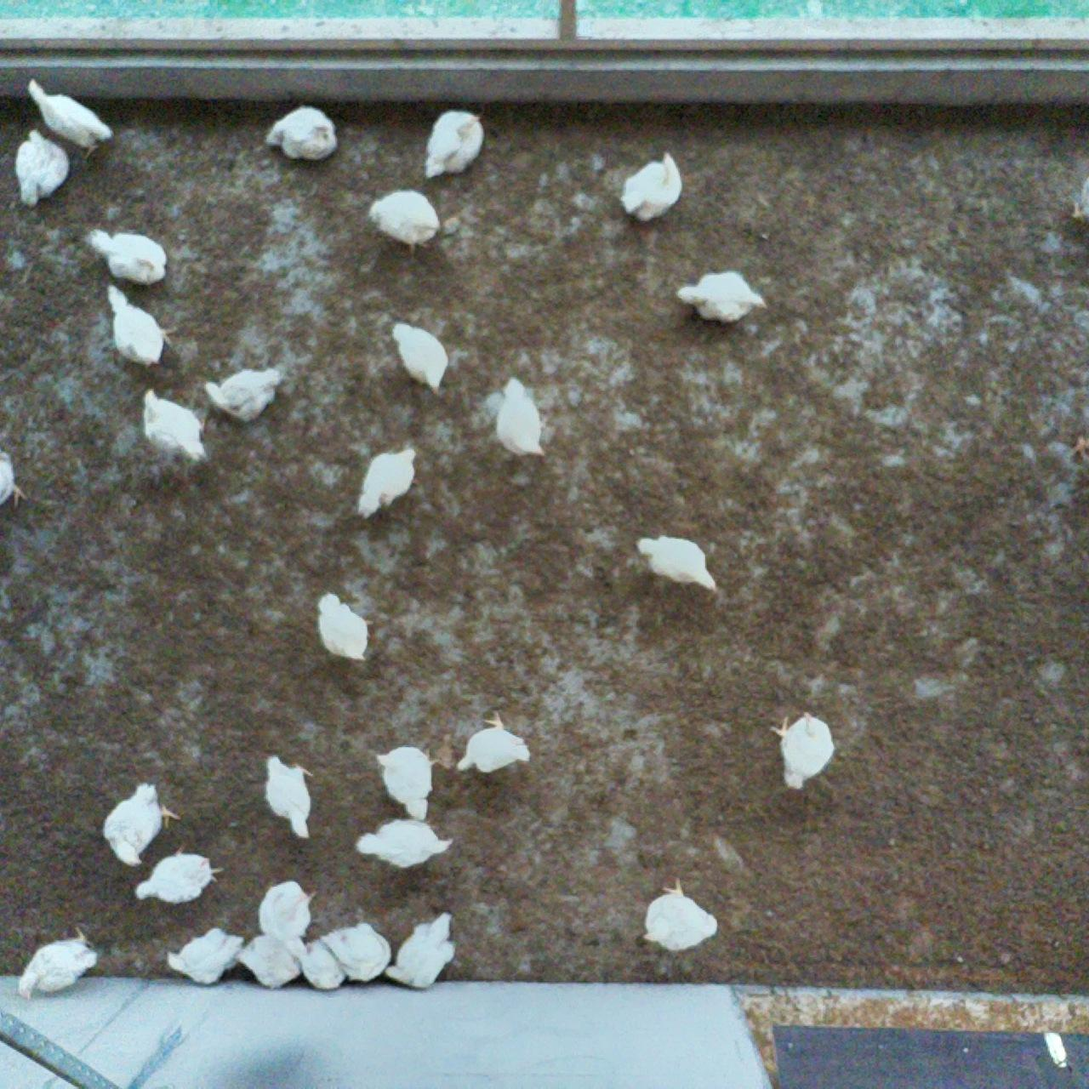chicken: (24, 77, 117, 162), (100, 780, 181, 869), (97, 282, 179, 368), (17, 927, 103, 1005), (384, 907, 458, 993), (639, 880, 719, 954), (370, 743, 442, 821), (672, 269, 768, 325), (455, 709, 533, 777), (634, 530, 719, 592), (354, 816, 453, 869), (82, 225, 169, 285), (139, 388, 210, 461), (200, 364, 283, 426), (163, 926, 247, 987), (366, 188, 441, 256), (773, 710, 837, 789), (620, 149, 688, 223), (357, 443, 419, 524), (131, 853, 227, 905), (491, 374, 549, 460), (256, 878, 316, 961), (388, 318, 450, 394), (318, 922, 394, 983), (423, 106, 485, 180), (314, 588, 374, 664), (14, 131, 73, 208), (262, 754, 314, 839), (262, 106, 338, 162), (235, 932, 304, 991), (295, 936, 345, 990), (0, 449, 26, 516), (1068, 173, 1089, 234)
